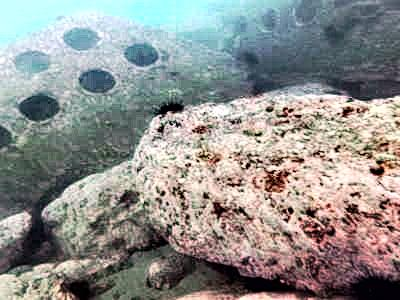urchin: (346, 266, 395, 295), (158, 100, 183, 113)
